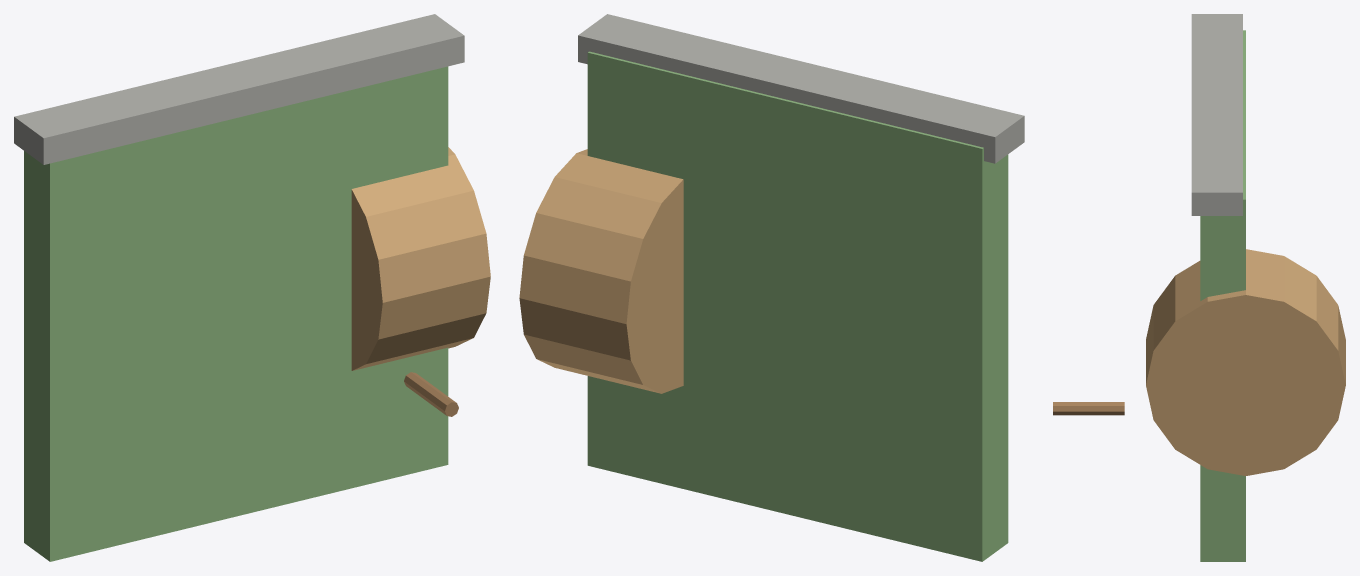
The model's file is 18_TrongLenh.glb.
3 views of the same model, side by side, from view 1: azimuth 30°, elevation 25°; view 2: azimuth 150°, elevation 25°; view 3: azimuth 270°, elevation 25° (orthographic). The views are drawn at different scales.
Visible parts, largest first — view 1: base, edge, drum, peg; view 2: base, drum, edge; view 3: drum, edge, base, peg.
Boxes of the visible parts, bbox=[...] form: base: bbox=[24, 66, 448, 561]; edge: bbox=[14, 14, 464, 164]; drum: bbox=[351, 147, 490, 370]; peg: bbox=[404, 372, 458, 416]; base: bbox=[587, 51, 1008, 561]; drum: bbox=[519, 149, 683, 393]; edge: bbox=[578, 14, 1024, 163]; drum: bbox=[1146, 249, 1345, 475]; edge: bbox=[1191, 14, 1242, 215]; base: bbox=[1200, 30, 1245, 561]; peg: bbox=[1053, 402, 1124, 415].
Size of the model in its own units: 1.48 by 1.44 by 1.03.
